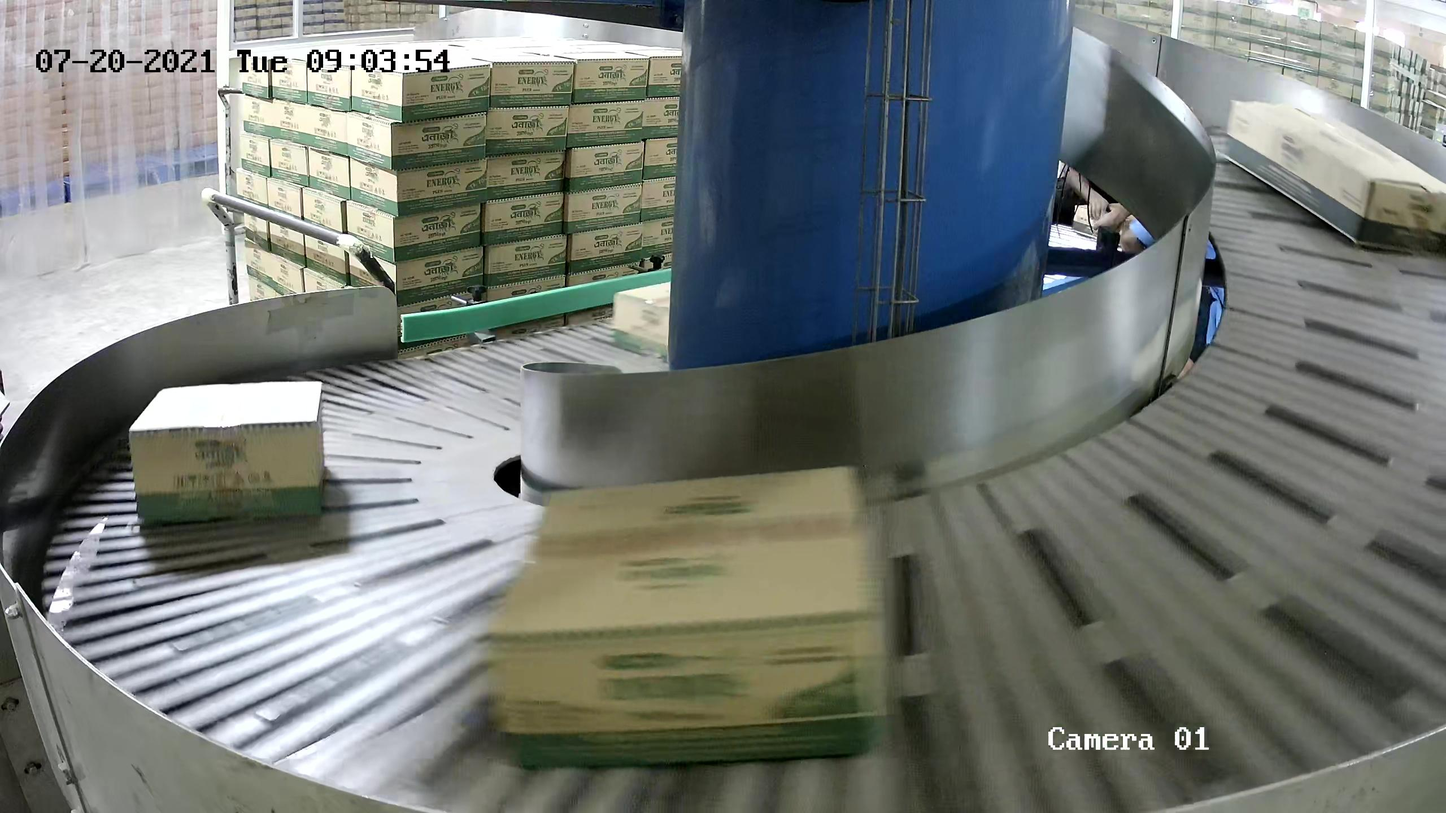Box: (484, 464, 888, 763), (1221, 98, 1446, 257), (127, 380, 326, 528)
